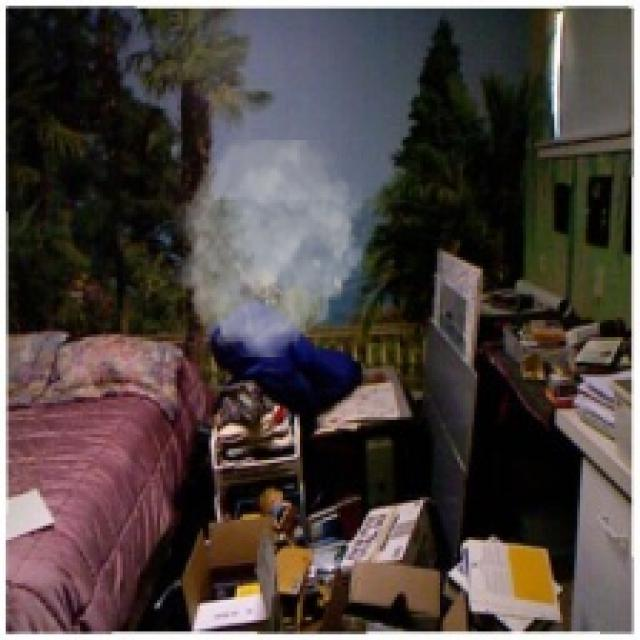smoke: (168, 140, 372, 357)
